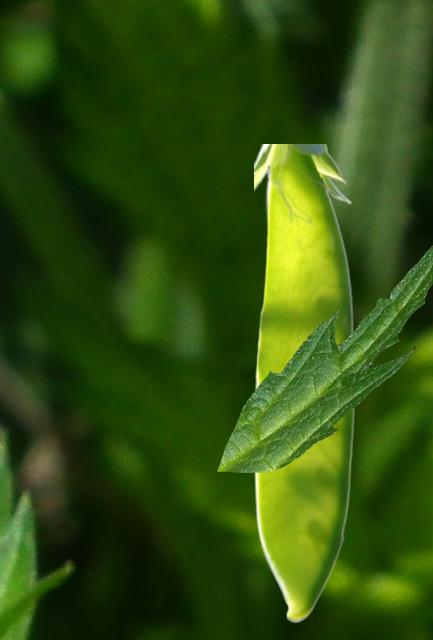pea: (254, 144, 355, 622)
